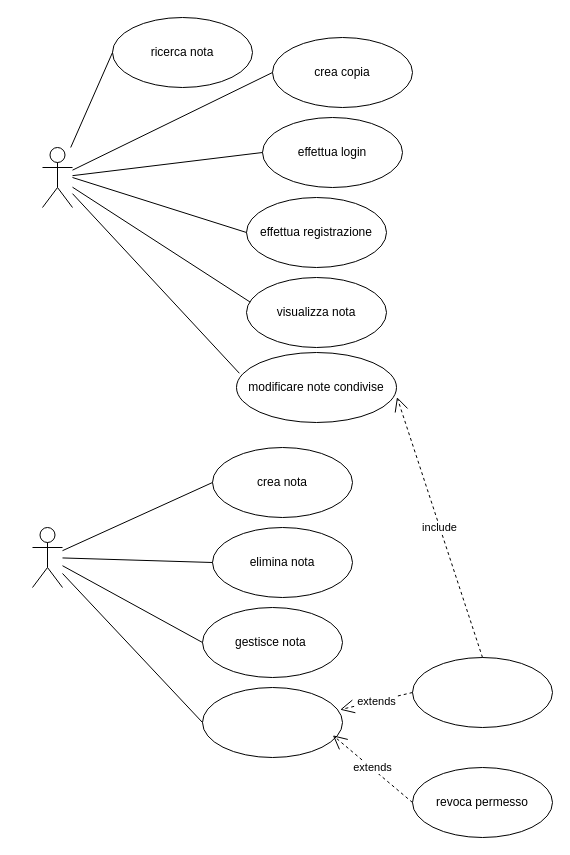
Some shapes in this 570 by 855 pixel diagram are drawn without their labels. The centre of each missing label's shape, as x and y in pixels:
"concede permesso" belongs at point (482, 692).
"gestisce permessi" belongs at point (272, 722).
"proprietario" belongs at point (47, 557).
"utente" belongs at point (57, 177).
